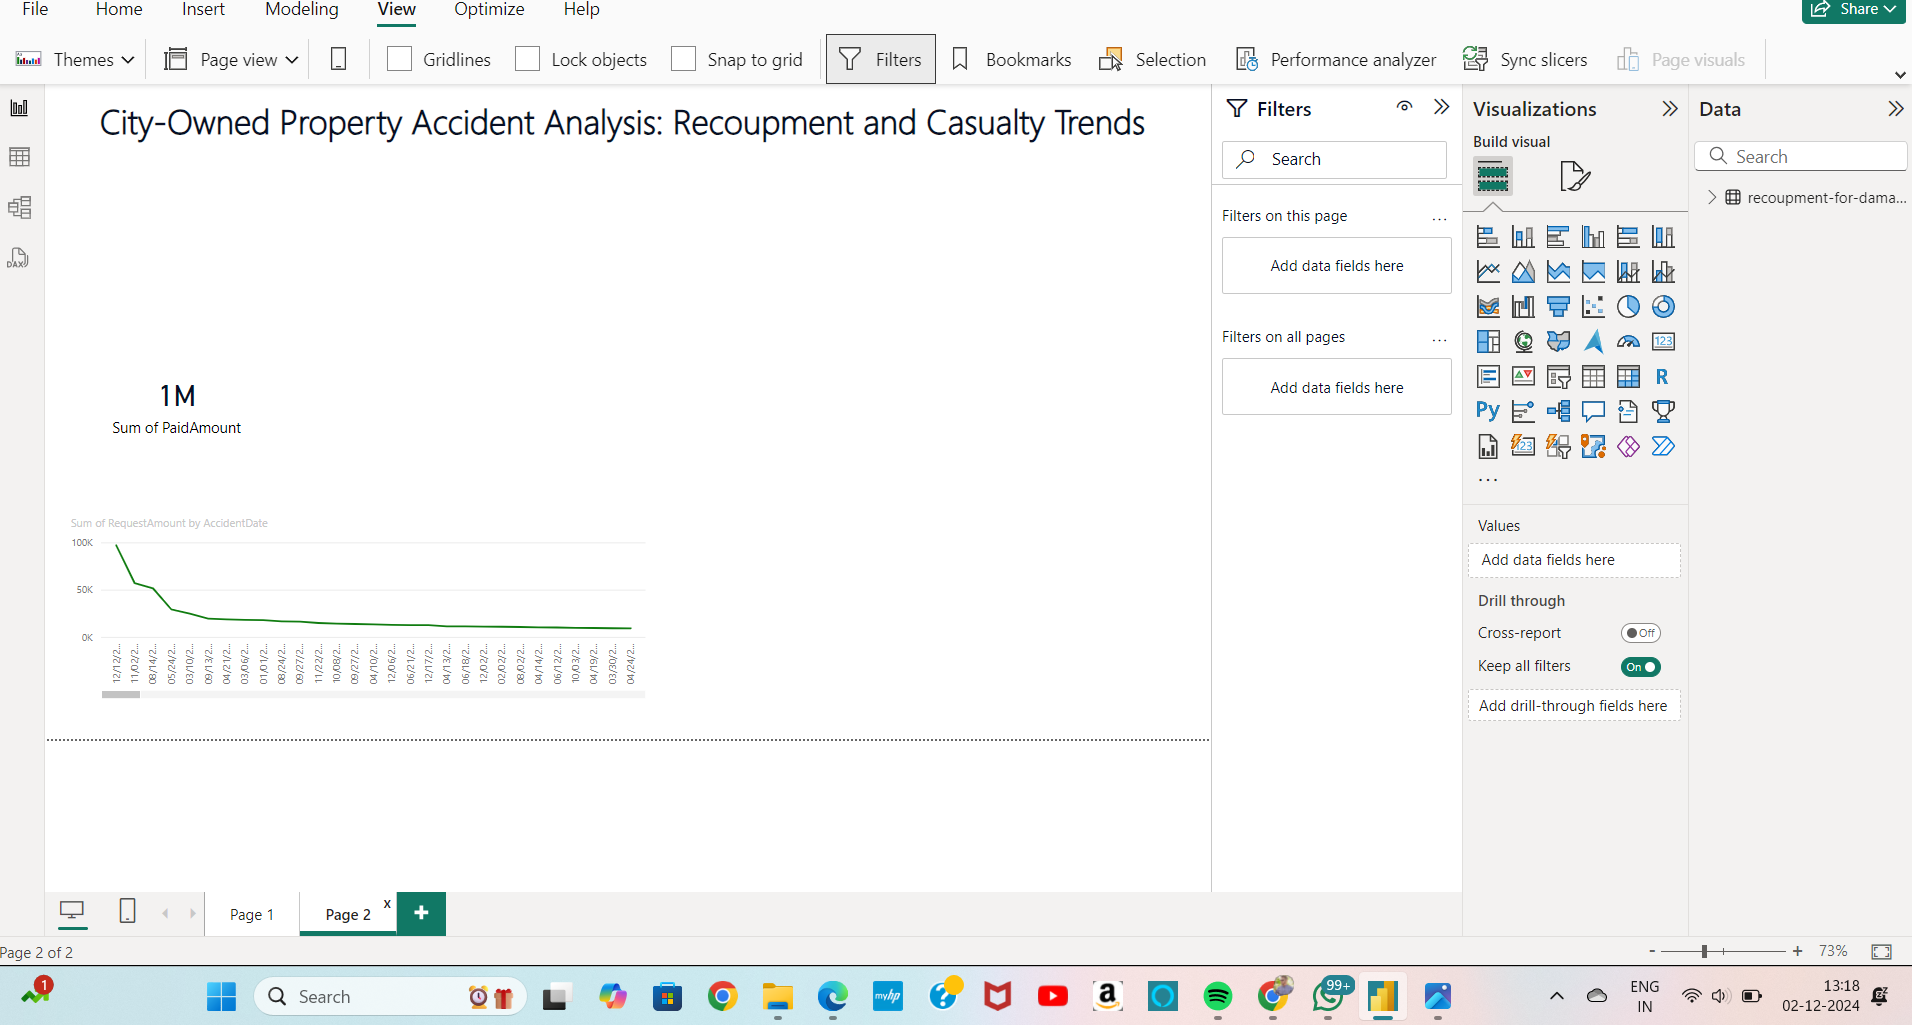

What the dashboard file says about the page in this screenshot:
{"tool":"powerbi","page":{"name":"Page 2","canvas":[1280,720],"ordinal":1},"visuals":[{"type":"card","fields":{"Values":["Sum(recoupment-for-damaged-city-owned-property-1.PaidAmount)"]},"box":[23.3,247,242.9,207.2],"z":0},{"type":"lineChart","fields":{"Category":["recoupment-for-damaged-city-owned-property-1.AccidentDate"],"Y":["Sum(recoupment-for-damaged-city-owned-property-1.RequestAmount)"]},"box":[23.3,473.4,640.8,205.8],"z":1},{"type":"textbox","box":[23.3,9.6,1221.3,100.2],"z":2}]}

Visuals, with their boxes on the page's 1280x720 design canvas (x1, y1, x2, y2). These are canvas units, not pixel positions in the 1912x1025 screenshot, which may show the page scaled, cropped or inside an application window:
card - Sum(recoupment-for-damaged-city-owned-property-1.PaidAmount): bbox=[23, 247, 266, 454]
lineChart - recoupment-for-damaged-city-owned-property-1.AccidentDate x Sum(recoupment-for-damaged-city-owned-property-1.RequestAmount): bbox=[23, 473, 664, 679]
textbox: bbox=[23, 10, 1245, 110]
